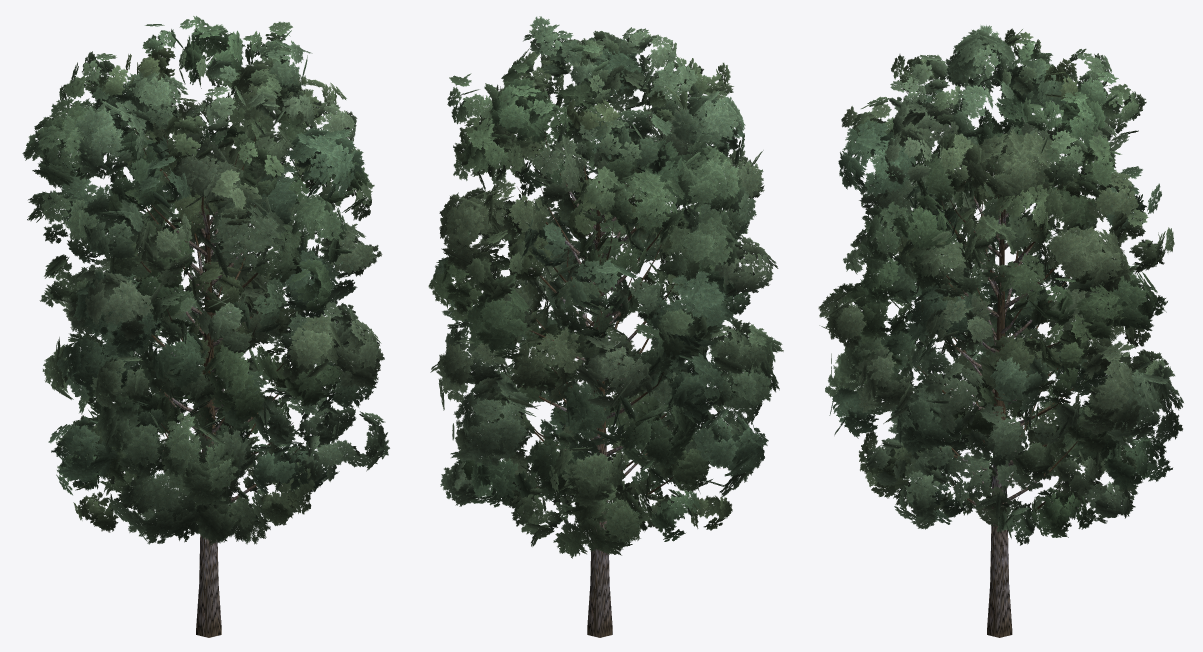
File: mm6_deco_tree18.glb
The picture shows the model from 3 angles, left to right: view 1: azimuth 30°, elevation 25°; view 2: azimuth 150°, elevation 25°; view 3: azimuth 270°, elevation 25°; orthographic projection. The views are drawn at different scales.
Visible parts, largest first — view 1: Tree; view 2: Tree; view 3: Tree.
Part boxes in pixels (x1=…): Tree: x1=22, y1=16, x2=389, y2=637; Tree: x1=428, y1=16, x2=783, y2=637; Tree: x1=818, y1=25, x2=1183, y2=637.
Bounding box in the file's own units: 1.76 × 3 × 1.71.
Materials: 2 (2 with a texture image).
